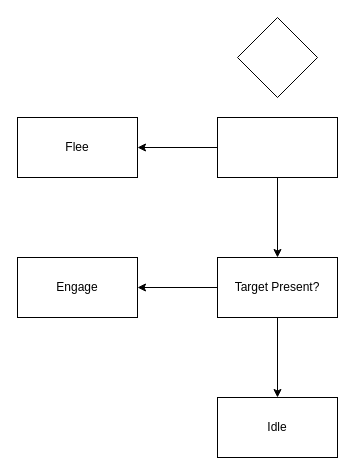
This 355x475 diagram has some shape labels left out. Each missing label, with the centre of its shape:
Invert(Health Critical?): the point at 277,147
Ship Ai Tree: the point at 277,57
